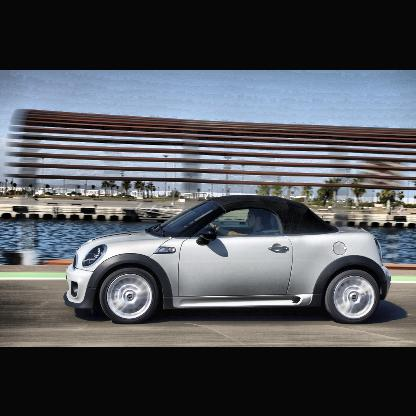MINI Cooper Roadster Convertible 2012: (63, 198, 391, 323)
